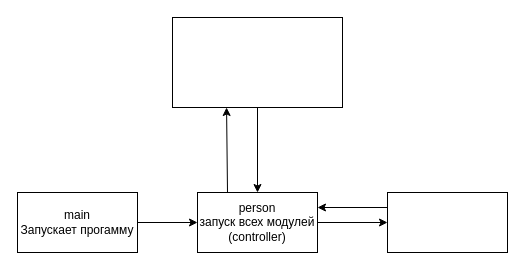
Image size: 525x270. Some labels were removed from this diagram. Here are the shapes that lost their labels. From the top down, the box of each, then its label:
(172, 16, 342, 108): view считыванние данных Запись данных в файл
(386, 192, 508, 252): inform_system Редактирование информационной системы
